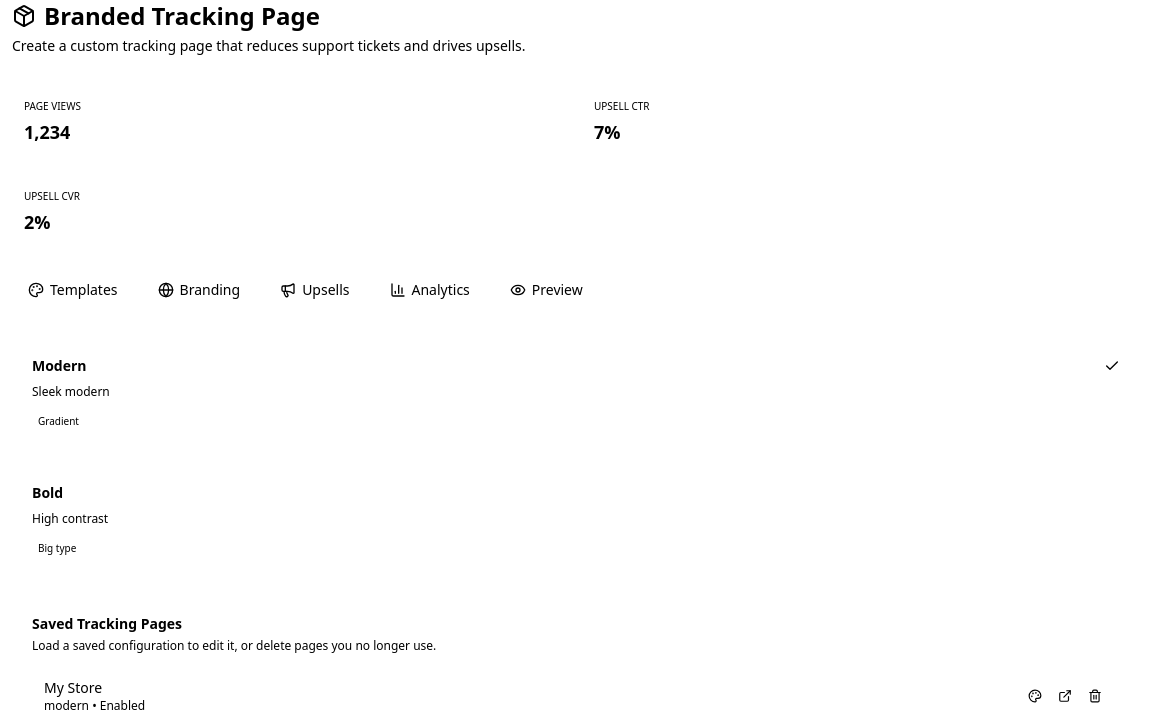
Test: TrackingPageManager › shows inline invalid-color feedback
The width and height of the screenshot is (1152, 720).
Click the button "Branding" at (199, 290), box 142,272 -> 256,308
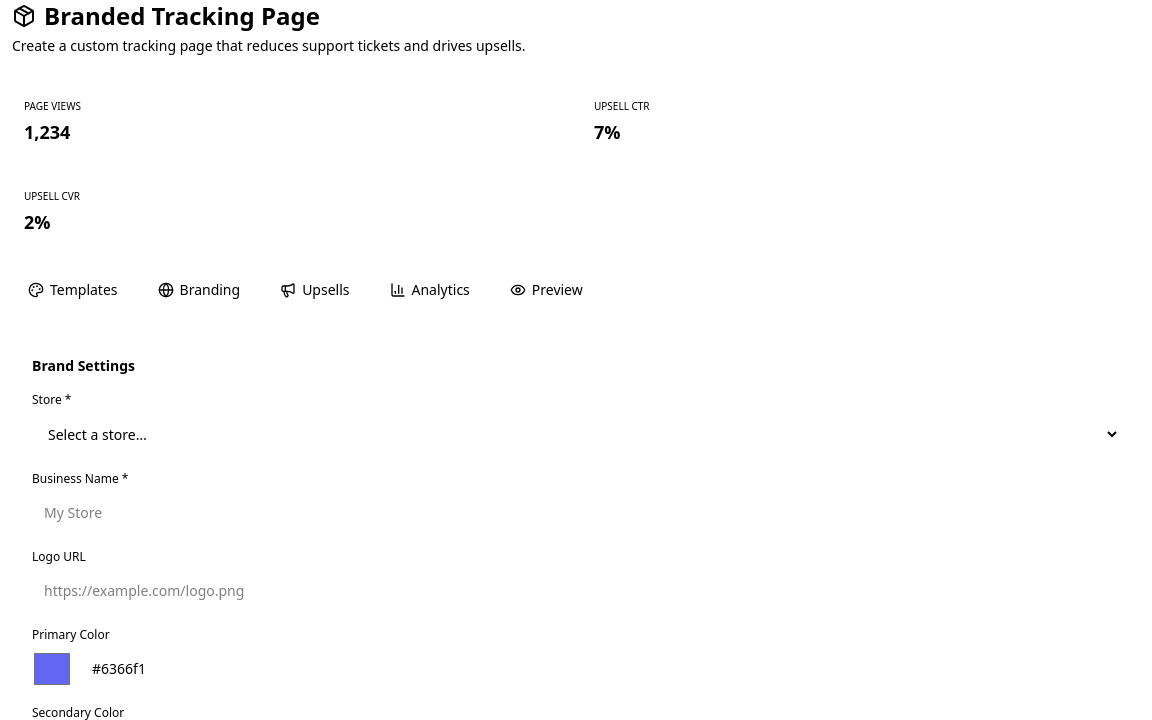
Type "Acme" into the field labelled "Business Name *" at (576, 513), box 32,493 -> 1120,533
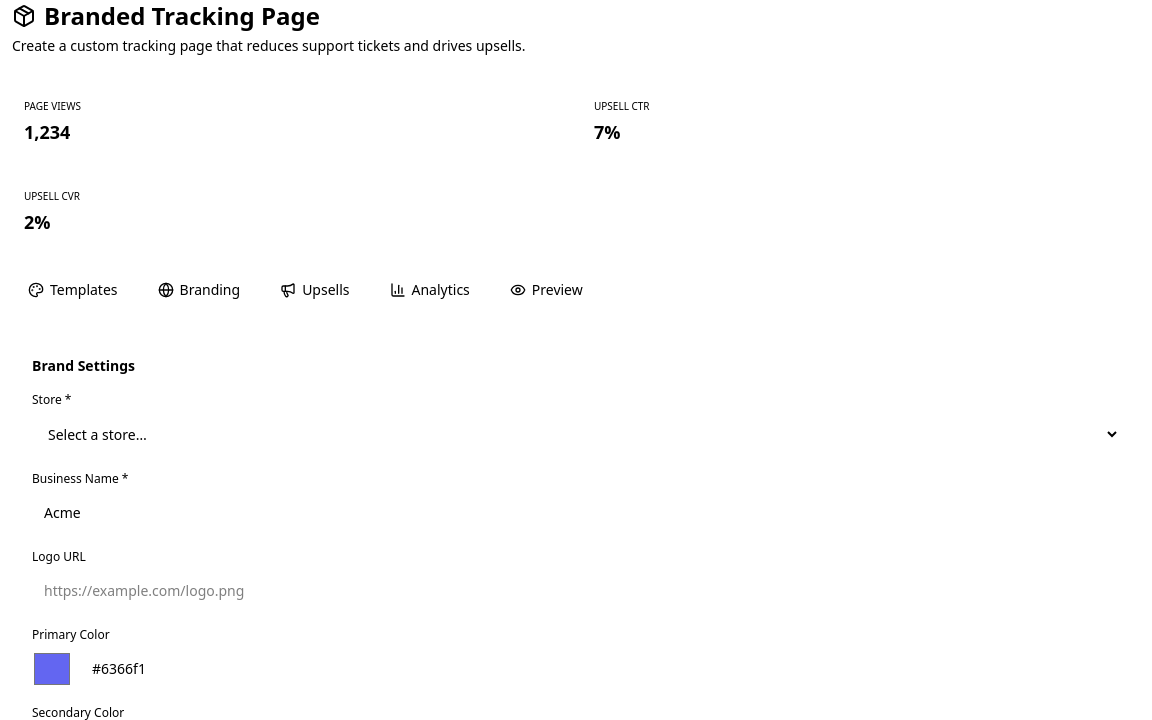
Select "My Shopify (shopify)" in the dropdown labelled "Store *" at (576, 434), box 32,414 -> 1120,455
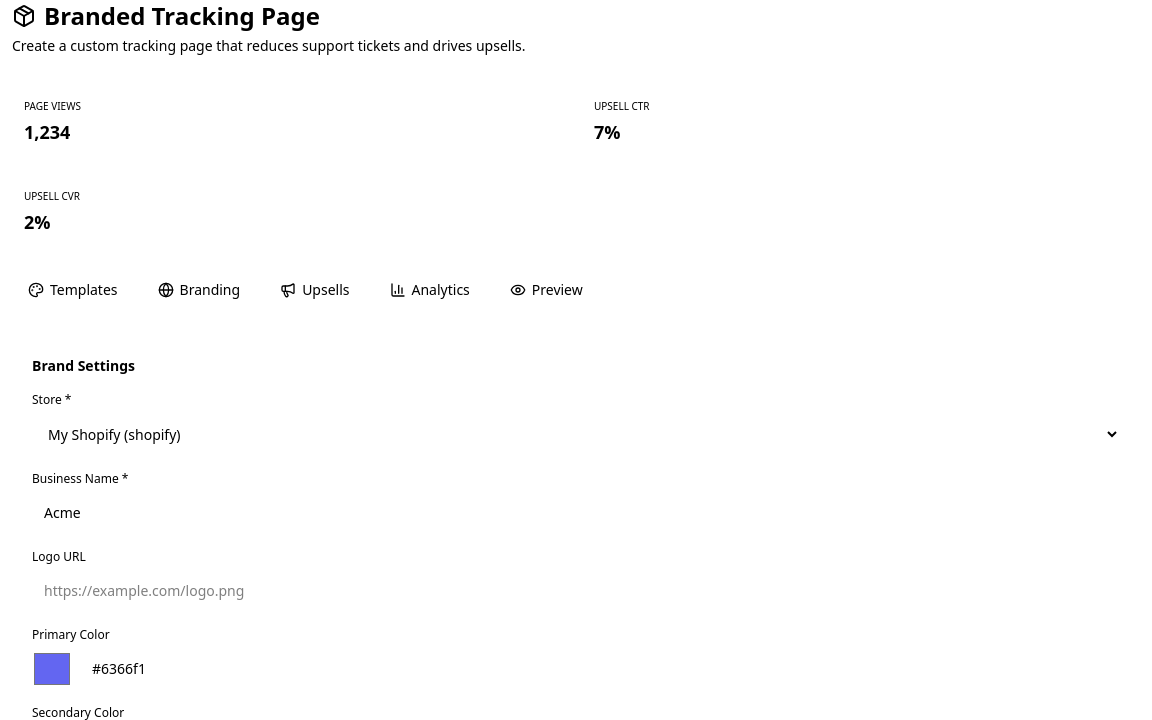
Replace the text in the field named "Primary Color hex value" with "red" at (600, 669), box 80,649 -> 1120,689
(page scrolled)
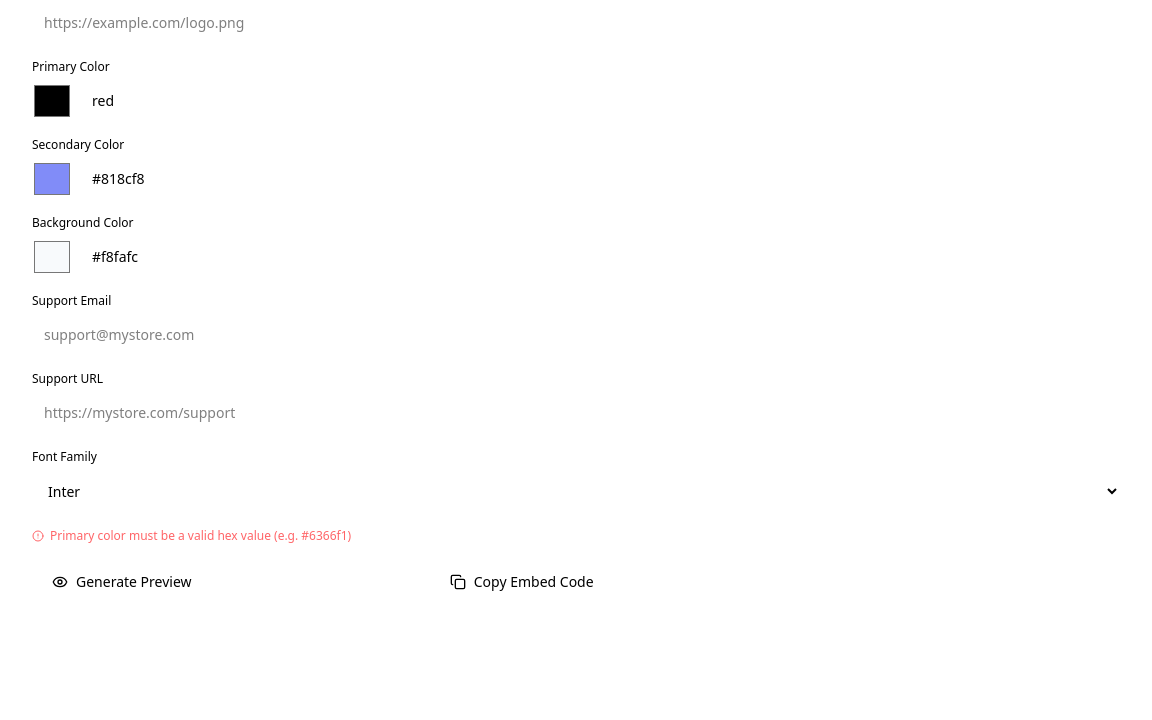
Now the text "Primary color must be a valid hex value (e.g. #6366f1)" is shown, box 32,527 -> 351,544
